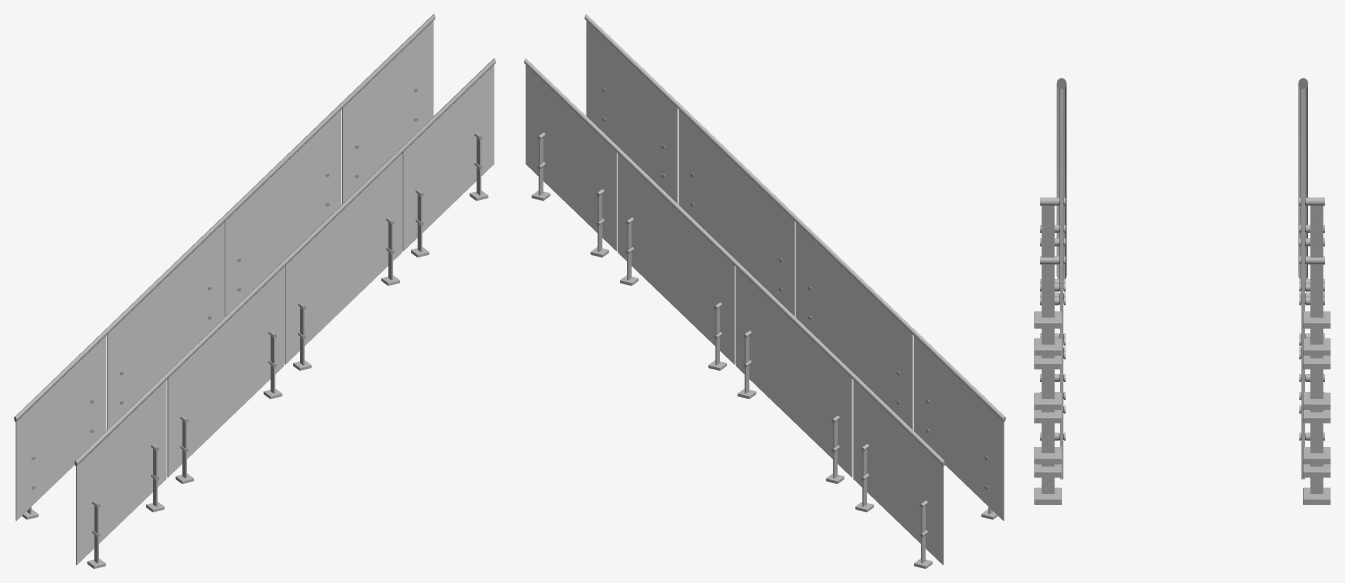
File: Straight_Railing_Lo-Post_Flatbar.gltf
3 views of the same model, side by side, from view 1: azimuth 30°, elevation 25°; view 2: azimuth 150°, elevation 25°; view 3: azimuth 270°, elevation 25° (orthographic). The views are drawn at different scales.
Visible parts, largest first — view 1: Box011, Box010, Generic Models 11 Generic Models 11 [8762451]010, Generic Models 11 Generic Models 11 [8762451]009; view 2: Box010, Box011, Generic Models 11 Generic Models 11 [8762451]009, Generic Models 11 Generic Models 11 [8762451]010; view 3: LS147 & LS148 - Kubit Post Material LS Material [8739192]005, LS147 & LS148 - Kubit Post Material LS Material [8739192]016, Generic Models 11 Generic Models 11 [8762451]010, Box011, Box010, Generic Models 11 Generic Models 11 [8762451]009, CSQ001-US - Surface Mount Weldment Part [8723797]128, CSQ001-US - Surface Mount Weldment Part [8723797]130, CSQ001-US - Surface Mount Weldment Part [8723797]138, CSQ001-US - Surface Mount Weldment Part [8723797]140, CSQ001-US - Surface Mount Weldment Part [8723797]131, CSQ001-US - Surface Mount Weldment Part [8723797]135 (+10 smaller).
Part boxes in pixels (x1,y1,x2,y2): Box011: (15,21,433,520); Box010: (76,65,494,564); Generic Models 11 Generic Models 11 [8762451]010: (74,58,495,466); Generic Models 11 Generic Models 11 [8762451]009: (14,14,435,421); Box010: (586,21,1004,520); Box011: (525,65,943,564); Generic Models 11 Generic Models 11 [8762451]009: (524,58,945,466); Generic Models 11 Generic Models 11 [8762451]010: (584,14,1005,421); LS147 & LS148 - Kubit Post Material LS Material [8739192]005: (1041,205,1054,317); LS147 & LS148 - Kubit Post Material LS Material [8739192]016: (1310,205,1323,317); Generic Models 11 Generic Models 11 [8762451]010: (1056,78,1066,280); Box011: (1301,88,1304,479); Box010: (1060,88,1063,479); Generic Models 11 Generic Models 11 [8762451]009: (1298,78,1307,279); CSQ001-US - Surface Mount Weldment Part [8723797]128: (1034,338,1061,355); CSQ001-US - Surface Mount Weldment Part [8723797]130: (1034,311,1061,328); CSQ001-US - Surface Mount Weldment Part [8723797]138: (1303,338,1330,355); CSQ001-US - Surface Mount Weldment Part [8723797]140: (1303,311,1330,328); CSQ001-US - Surface Mount Weldment Part [8723797]131: (1034,447,1061,464); CSQ001-US - Surface Mount Weldment Part [8723797]135: (1303,447,1330,464).
Bounding box in the file's own units: 3.79 × 3.52 × 1.16.
